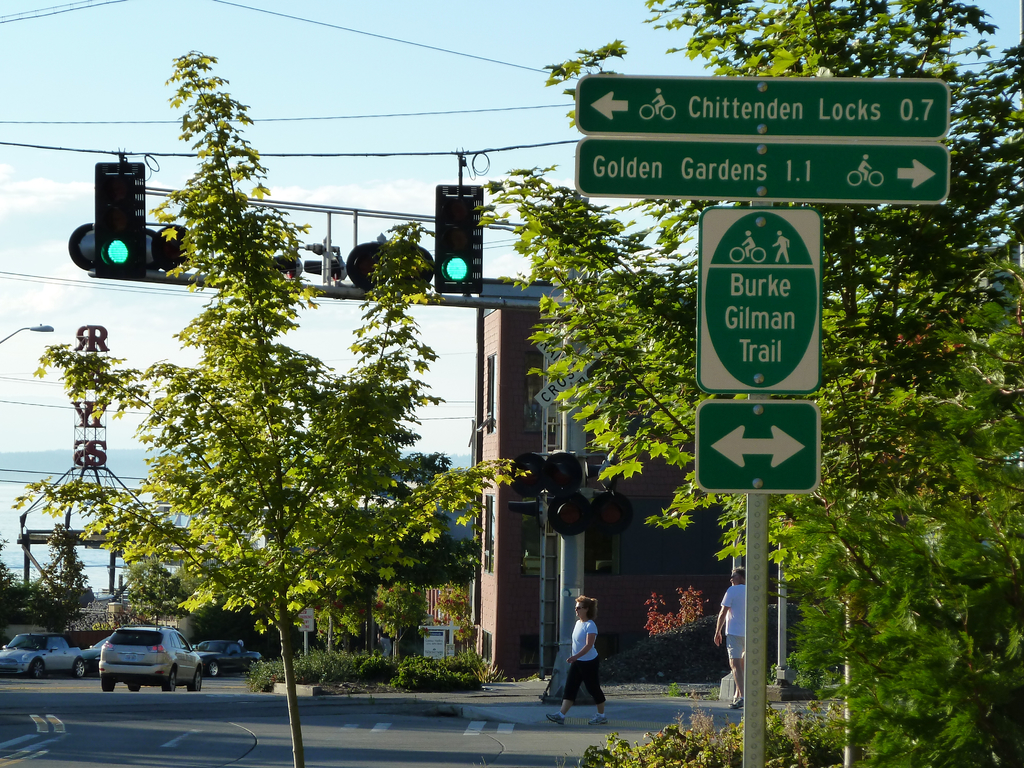green_light: (440, 190, 479, 290), (99, 169, 137, 271)
